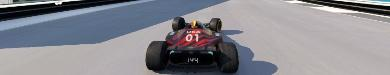Car: (144, 16, 239, 73)
curve: (0, 0, 389, 74)
